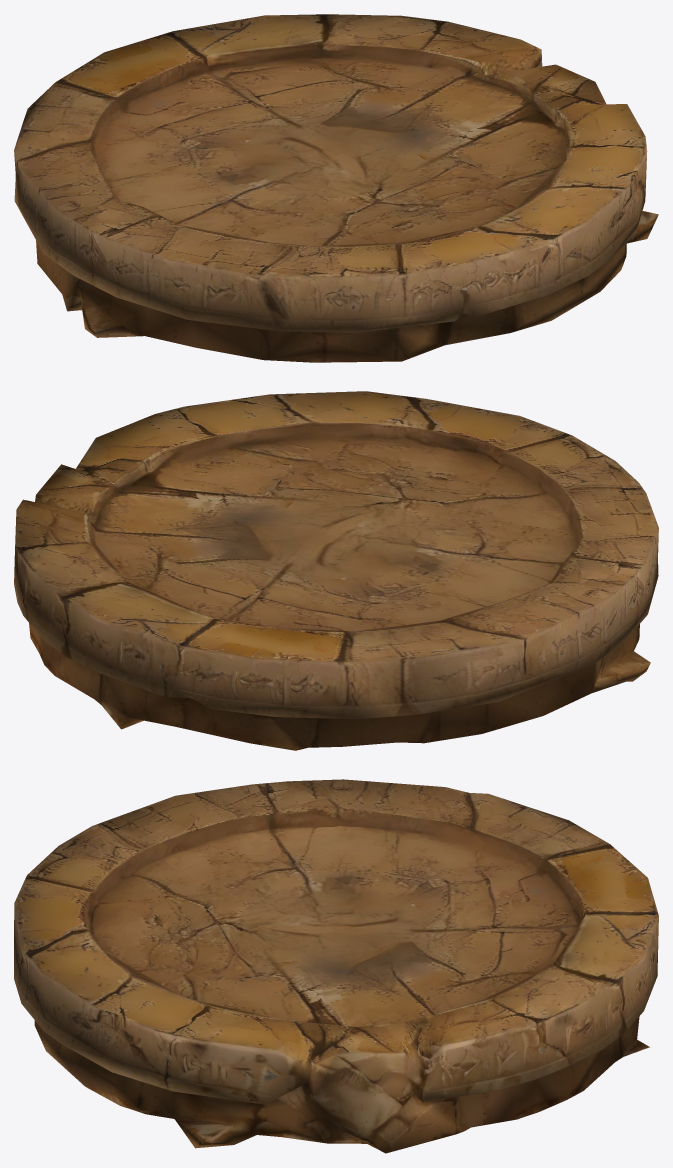
File: pad.fbx
3 renders of one model, top to bottom at view 1: azimuth 30°, elevation 25°; view 2: azimuth 150°, elevation 25°; view 3: azimuth 270°, elevation 25°, orthographic. The views are drawn at different scales.
Parts seen in each view (by area): view 1: tripo_node_af5f417e.001; view 2: tripo_node_af5f417e.001; view 3: tripo_node_af5f417e.001.
Boxes of the visible parts, x1,y1,x2,y2 form: tripo_node_af5f417e.001: (14, 14, 658, 362); tripo_node_af5f417e.001: (14, 391, 658, 750); tripo_node_af5f417e.001: (14, 779, 658, 1153).
Bounding box in the file's own units: 93.15 × 27.42 × 92.11.
